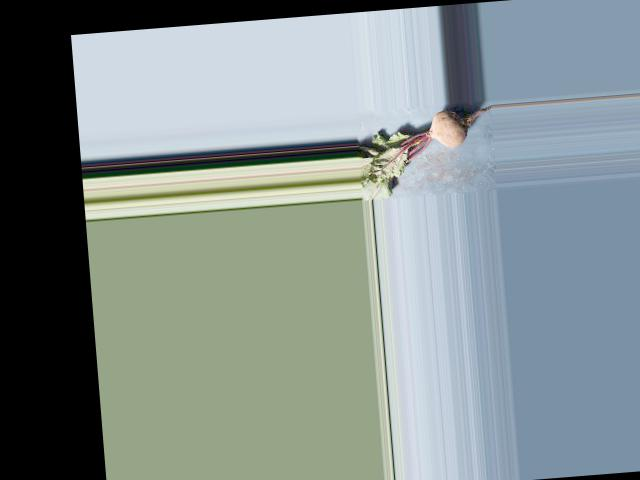beet: (354, 105, 497, 201)
